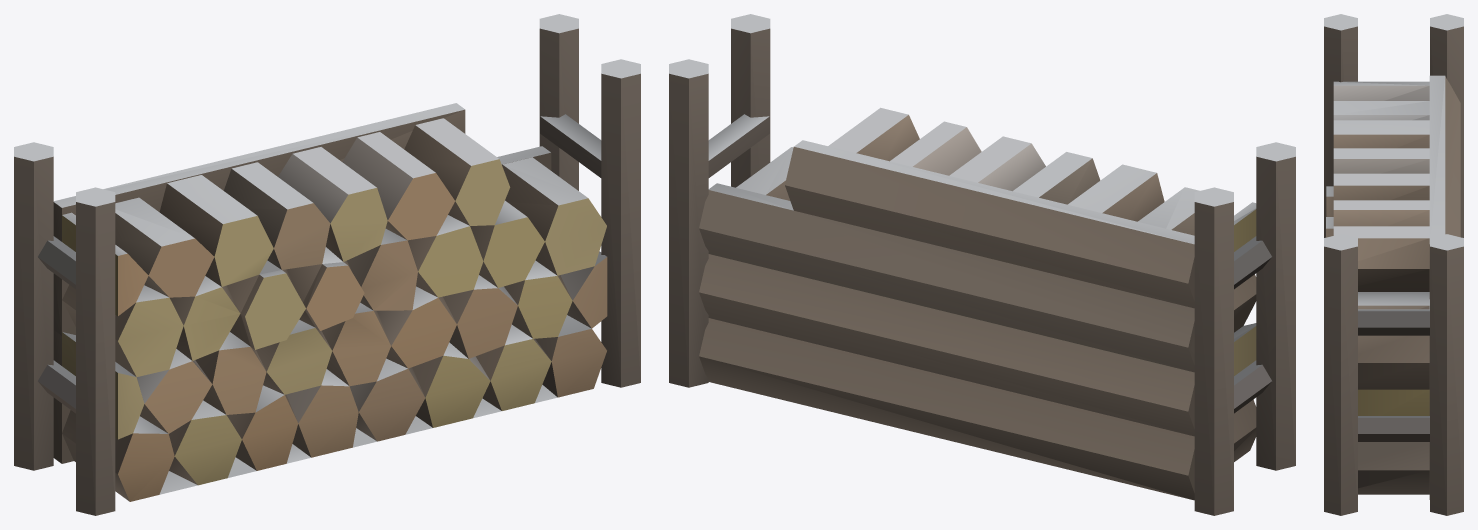
Rendered from cordwood.glb.
The picture shows the model from 3 angles, left to right: view 1: azimuth 30°, elevation 25°; view 2: azimuth 150°, elevation 25°; view 3: azimuth 270°, elevation 25°; orthographic projection. The views are drawn at different scales.
Parts seen in each view (by area): view 1: cordwood; view 2: cordwood; view 3: cordwood.
Part boxes in pixels (box(x1,y1,x2,y2)): cordwood: box(14, 14, 640, 515); cordwood: box(669, 14, 1295, 515); cordwood: box(1324, 14, 1463, 515).
Bounding box in the file's own units: 2 × 1.05 × 0.5.
